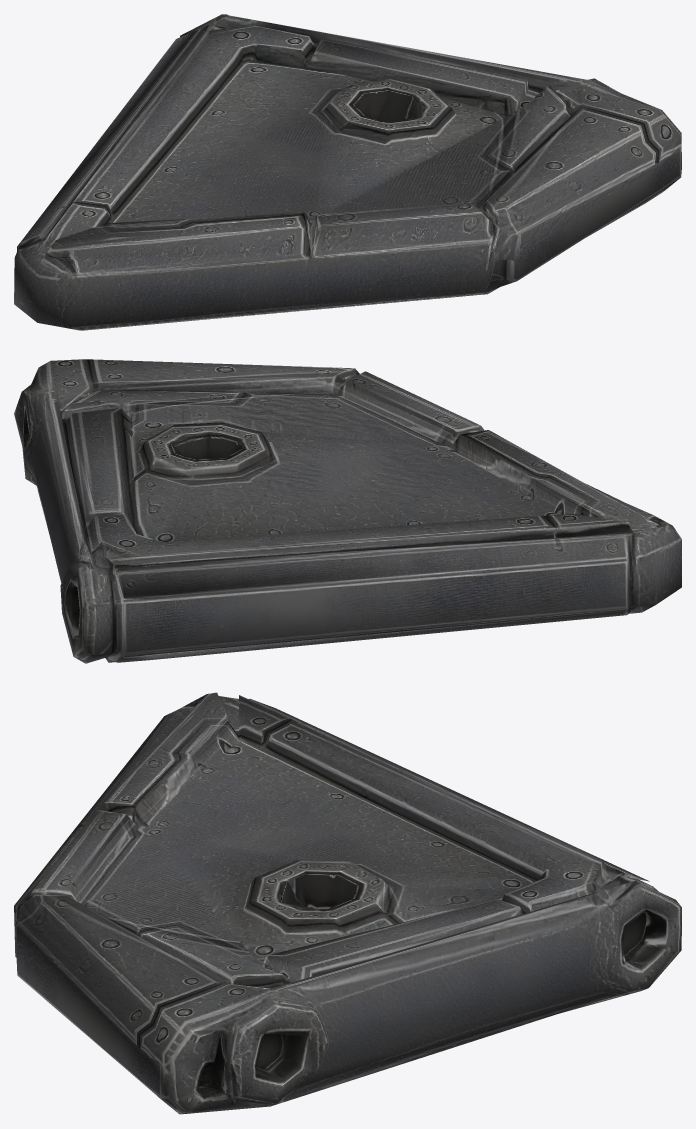
Rendered from cold-iron-v2-panel-b-wedge.glb.
3 views of the same model, one above another, from view 1: azimuth 30°, elevation 25°; view 2: azimuth 150°, elevation 25°; view 3: azimuth 270°, elevation 25° (orthographic). The views are drawn at different scales.
Parts seen in each view (by area): view 1: tripo_node_d23625af-f024-4446-809d-249878575b2a; view 2: tripo_node_d23625af-f024-4446-809d-249878575b2a; view 3: tripo_node_d23625af-f024-4446-809d-249878575b2a.
Boxes of the visible parts, x1,y1,x2,y2 form: tripo_node_d23625af-f024-4446-809d-249878575b2a: [14, 14, 681, 330]; tripo_node_d23625af-f024-4446-809d-249878575b2a: [14, 359, 681, 663]; tripo_node_d23625af-f024-4446-809d-249878575b2a: [14, 692, 681, 1114].
Size of the model in its own units: 1.21 by 0.1919 by 0.9681.
1 material, 1 textured.
